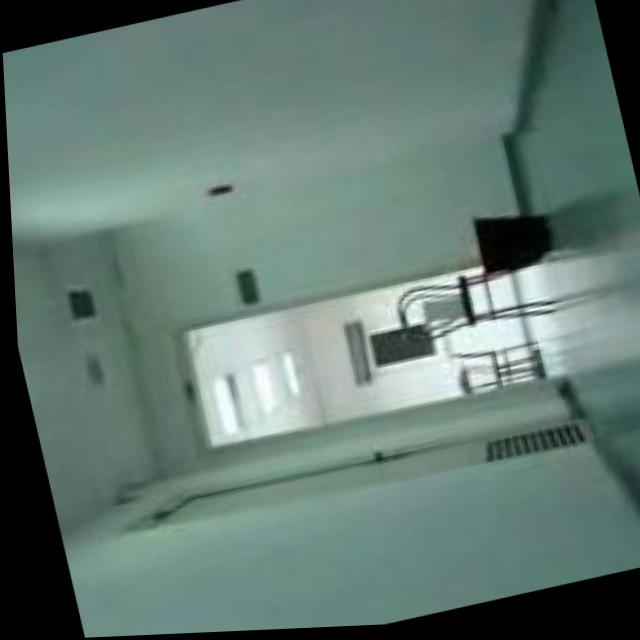Fire: (458, 261, 483, 287)
